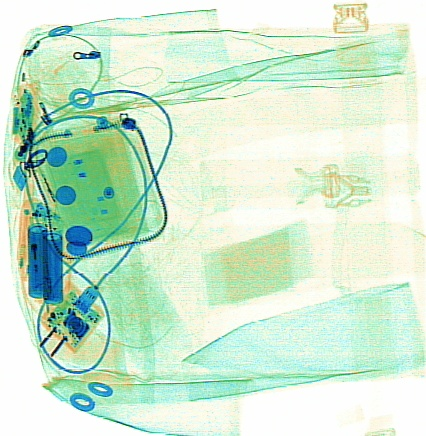lighter: (24, 196, 52, 294)
powerbank: (22, 199, 69, 307)
